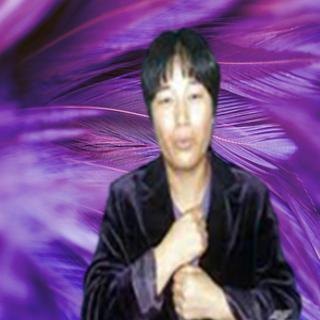CAREFUL: (161, 206, 222, 320)
